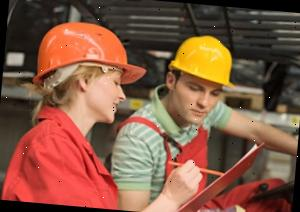helmet: (30, 19, 149, 97), (166, 32, 240, 90)
no_wear: (111, 118, 208, 212)
wear: (0, 116, 117, 209)
